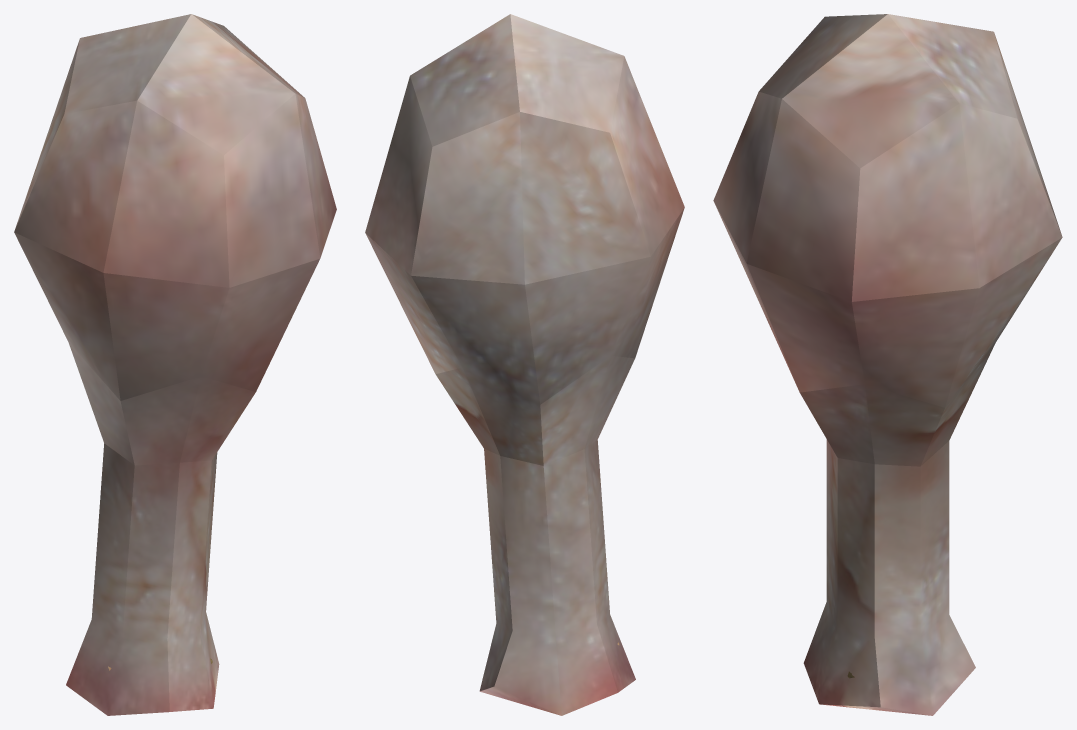
The model's file is ChickenLeg.fbx.
3 views of the same model, side by side, from view 1: azimuth 30°, elevation 25°; view 2: azimuth 150°, elevation 25°; view 3: azimuth 270°, elevation 25° (orthographic). The views are drawn at different scales.
Parts seen in each view (by area): view 1: ChickenMeat; view 2: ChickenMeat; view 3: ChickenMeat.
Boxes of the visible parts, x1,y1,x2,y2 form: ChickenMeat: [14, 14, 336, 715]; ChickenMeat: [365, 14, 684, 715]; ChickenMeat: [713, 14, 1062, 715].
Bounding box in the file's own units: 1068 × 2409 × 1078.
